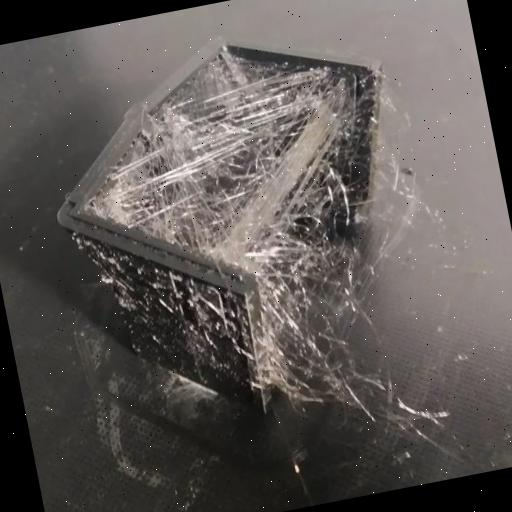stringing: (243, 191, 380, 416), (123, 72, 295, 229)
